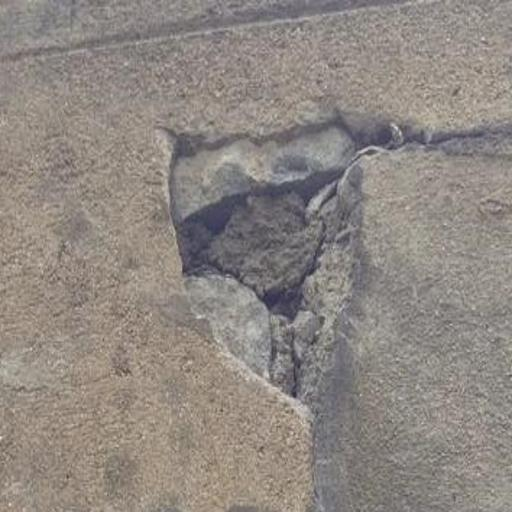spalling: (134, 109, 501, 476)
